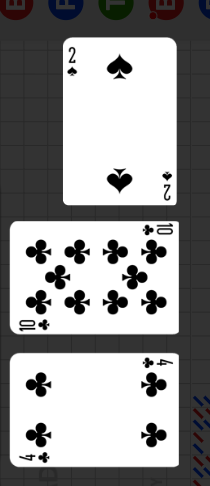10C: (140, 223, 175, 238)
2S: (66, 45, 80, 79)
4C: (18, 449, 52, 463)
